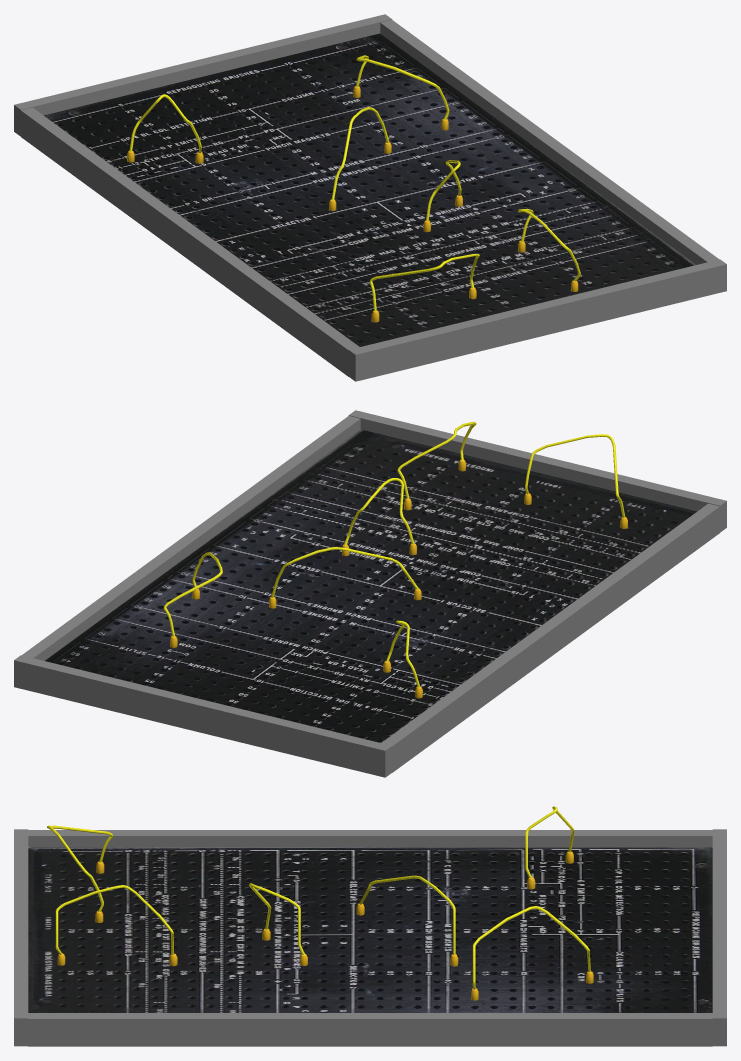
The model's file is codingold-transformed.glb.
3 views of the same model, one above another, from view 1: azimuth 30°, elevation 25°; view 2: azimuth 150°, elevation 25°; view 3: azimuth 270°, elevation 25° (orthographic). The views are drawn at different scales.
Visible parts, largest first — view 1: Cube_1_Mat_0, Cube_1_Mat.1_0, Cube_1_Mat.2_0, Cube_1_Mat.3_0; view 2: Cube_1_Mat_0, Cube_1_Mat.1_0, Cube_1_Mat.2_0, Cube_1_Mat.3_0; view 3: Cube_1_Mat_0, Cube_1_Mat.1_0, Cube_1_Mat.2_0, Cube_1_Mat.3_0.
Part boxes in pixels (left/top/right/bottom): Cube_1_Mat_0: left=44, top=33, right=695, bottom=346; Cube_1_Mat.1_0: left=14, top=14, right=726, bottom=381; Cube_1_Mat.2_0: left=129, top=55, right=580, bottom=310; Cube_1_Mat.3_0: left=127, top=86, right=578, bottom=322; Cube_1_Mat_0: left=45, top=429, right=696, bottom=742; Cube_1_Mat.1_0: left=14, top=410, right=726, bottom=777; Cube_1_Mat.2_0: left=163, top=421, right=625, bottom=687; Cube_1_Mat.3_0: left=170, top=459, right=627, bottom=698; Cube_1_Mat_0: left=28, top=847, right=712, bottom=1012; Cube_1_Mat.1_0: left=14, top=829, right=726, bottom=1046; Cube_1_Mat.2_0: left=47, top=806, right=590, bottom=989; Cube_1_Mat.3_0: left=57, top=851, right=593, bottom=1000.
Bounding box in the file's own units: 0.2121 × 0.0444 × 0.3379.
Materials: 5 (2 with a texture image).
